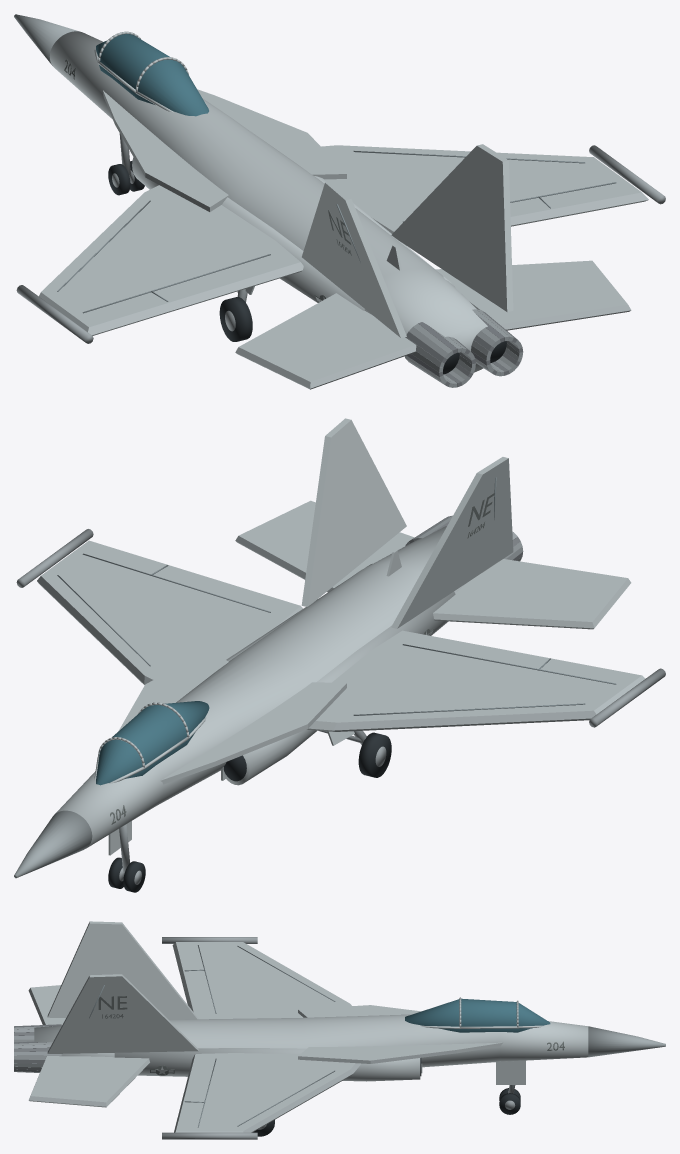
File: moffett-fighter.glb
3 views of the same model, one above another, from view 1: azimuth 30°, elevation 25°; view 2: azimuth 150°, elevation 25°; view 3: azimuth 270°, elevation 25° (orthographic). The views are drawn at different scales.
Visible parts, largest first — view 1: moffett-fighter; view 2: moffett-fighter; view 3: moffett-fighter.
Boxes of the visible parts, bbox=[...] form: moffett-fighter: bbox=[14, 14, 665, 389]; moffett-fighter: bbox=[14, 418, 665, 892]; moffett-fighter: bbox=[14, 921, 665, 1139].
Size of the model in its own units: 12.29 by 4.67 by 17.06.
